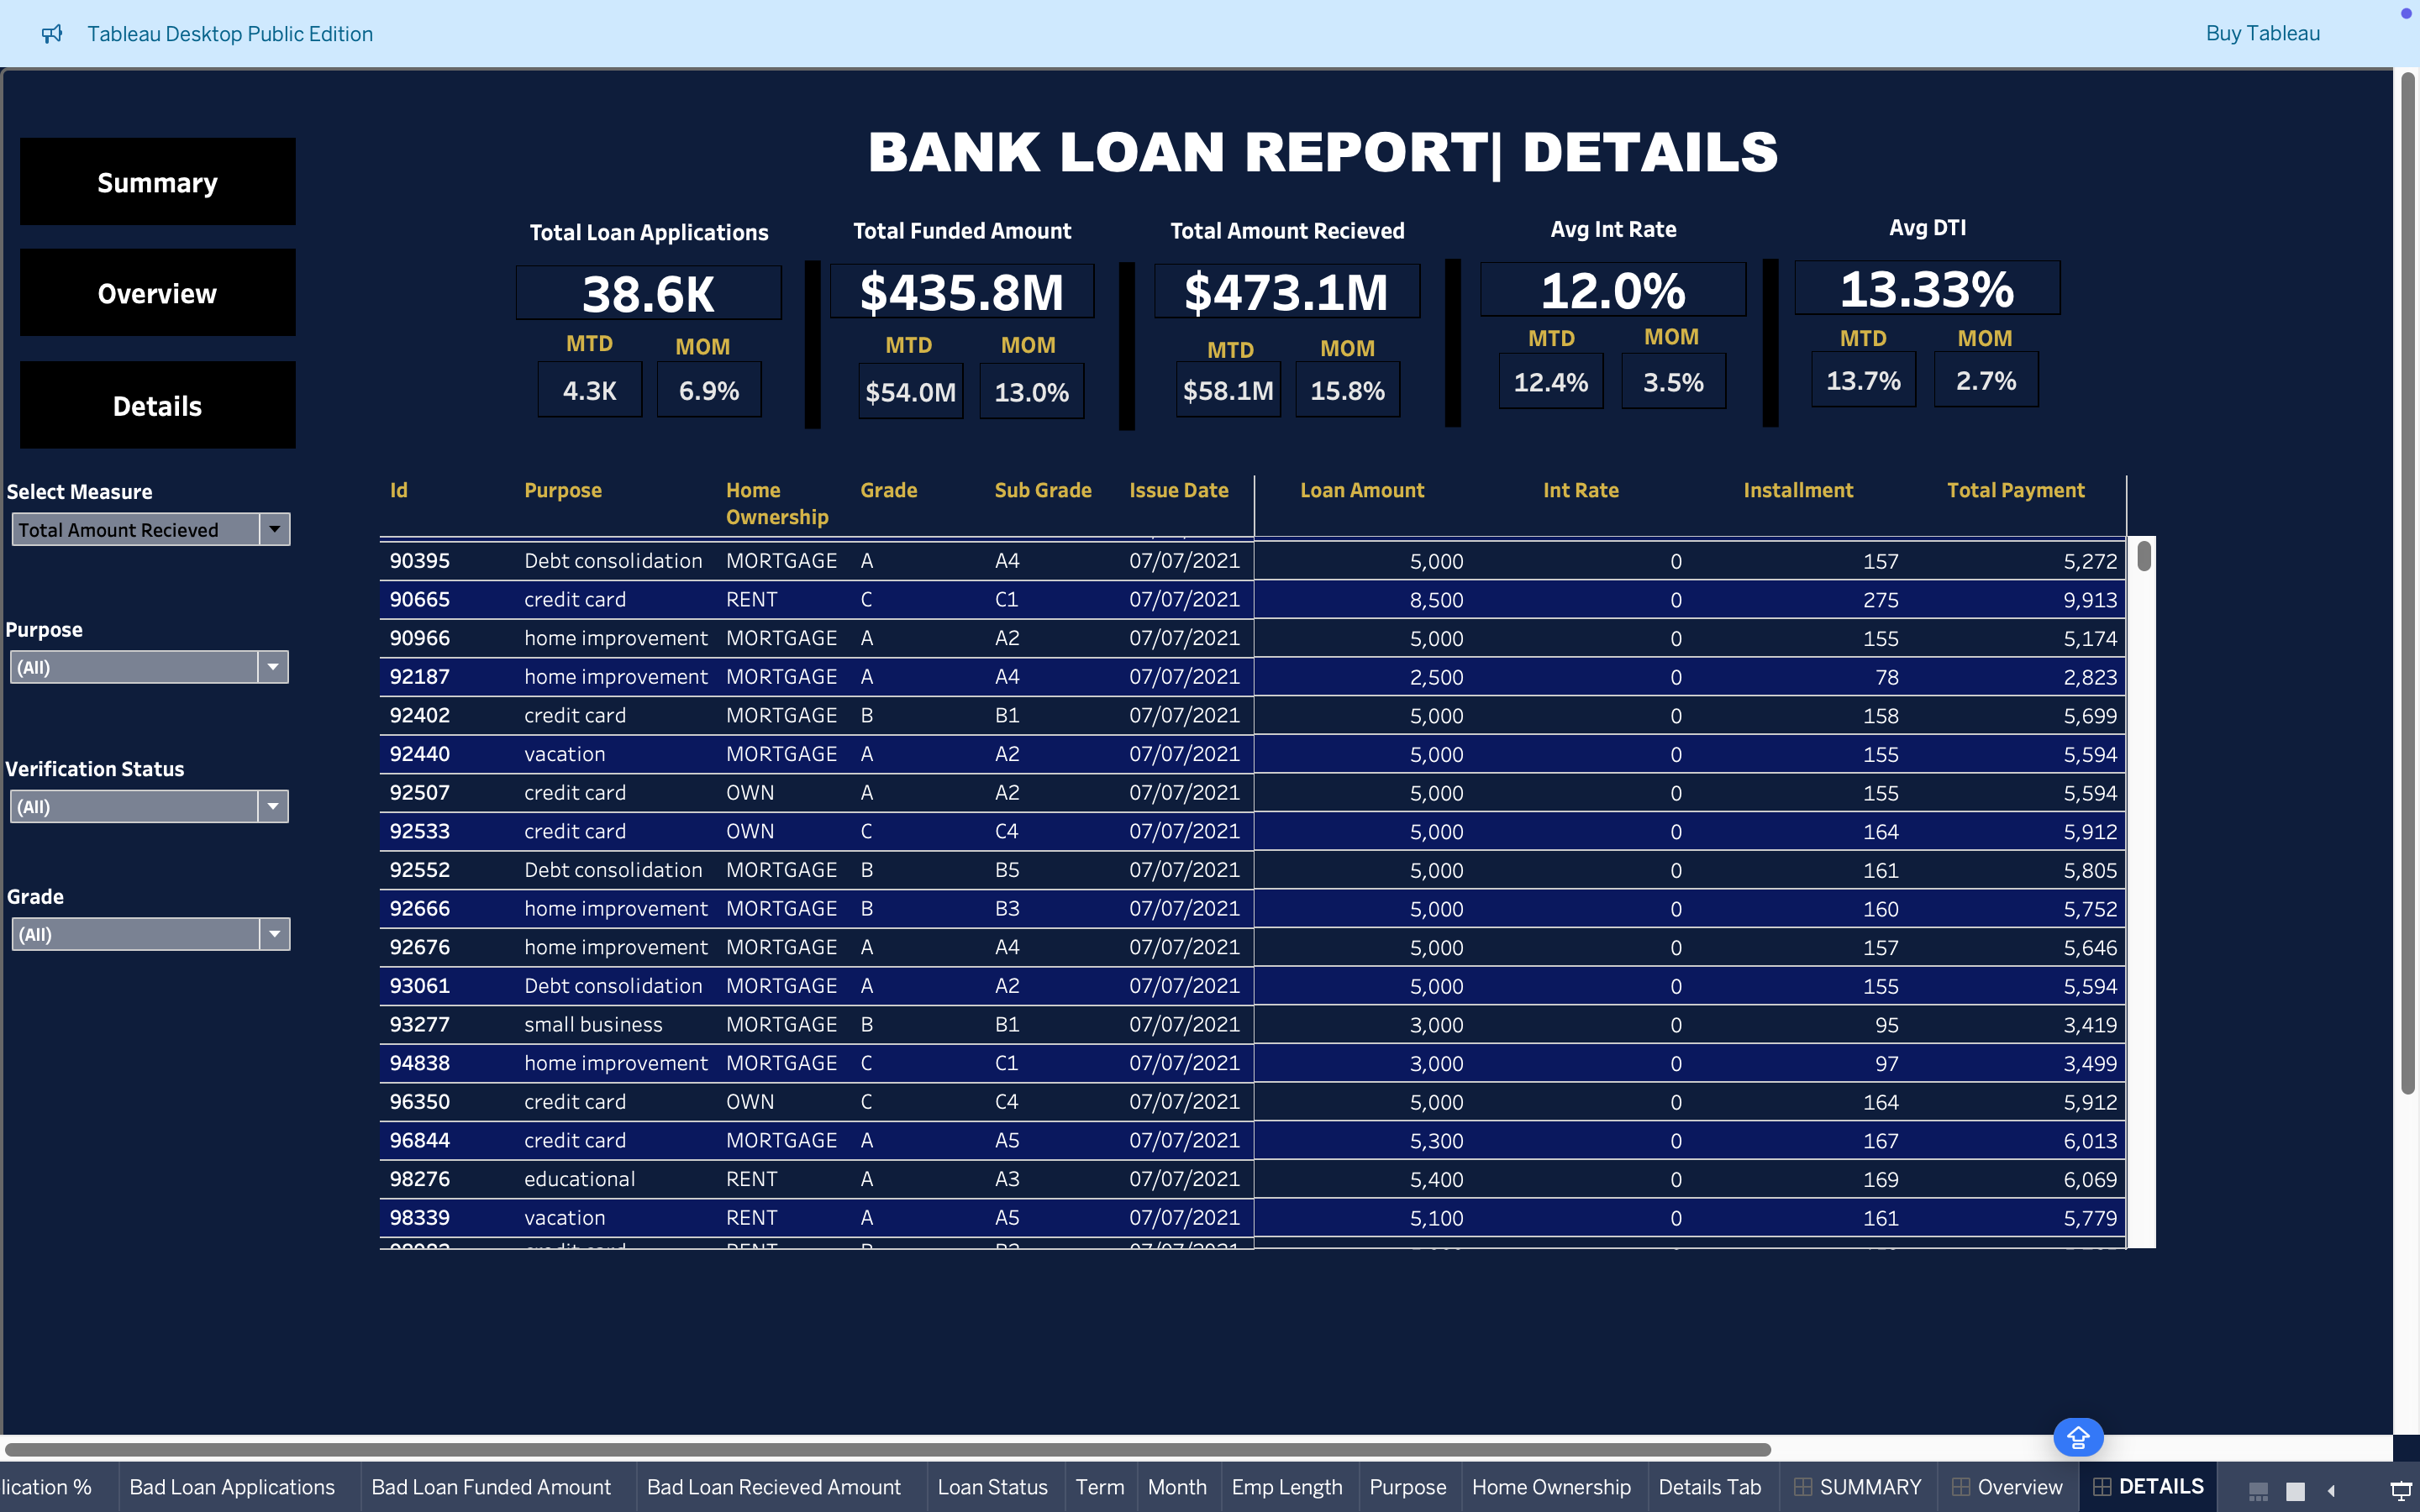

The dashboard page shown, as its layout file describes it:
{"tool":"tableau","page":{"name":"DETAILS","canvas":[1600,900],"ordinal":0},"visuals":[{"type":"text","box":[447,13,681,74]},{"type":"dashboard-object","box":[12,42,164,52]},{"type":"text","box":[1033,77,54,151]},{"type":"worksheet","title":"Avg DTI","mark":"Automatic","box":[1068,82,159,66]},{"type":"worksheet","title":"Avg Int Rate","mark":"Automatic","box":[881,83,159,66]},{"type":"worksheet","title":"Total Funded Amount","mark":"Automatic","box":[494,84,158,66]},{"type":"worksheet","title":"Total Amount Recieved","mark":"Automatic","box":[687,84,159,66]},{"type":"worksheet","title":"Total Loan Applications","mark":"Automatic","box":[307,85,159,66]},{"type":"text","box":[463,88,47,149]},{"type":"text","box":[844,88,44,130]},{"type":"text","box":[650,90,40,130]},{"type":"dashboard-object","box":[12,108,164,52]},{"type":"text","box":[894,146,59,30]},{"type":"text","box":[1081,146,56,30]},{"type":"text","box":[965,147,60,26]},{"type":"text","box":[1156,148,51,25]},{"type":"text","box":[330,149,42,30]},{"type":"text","box":[513,150,56,29]},{"type":"text","box":[593,151,42,28]},{"type":"text","box":[396,154,45,23]},{"type":"text","box":[783,154,41,25]},{"type":"text","box":[702,155,61,26]},{"type":"worksheet","title":"MTD Avg DTI","mark":"Automatic","box":[1078,169,63,34]},{"type":"worksheet","title":"MoM Avg DTI","mark":"Automatic","box":[1151,169,63,34]},{"type":"worksheet","title":"MTD Avg Int Rate","mark":"Automatic","box":[892,170,63,34]},{"type":"worksheet","title":"MoM Avg Int Rate ","mark":"Automatic","box":[965,170,63,34]},{"type":"dashboard-object","box":[12,175,164,52]},{"type":"worksheet","title":"MTD Total Loan Applications ","mark":"Automatic","box":[320,175,63,34]},{"type":"worksheet","title":"MoM Total Loan Applications","mark":"Automatic","box":[391,175,63,34]},{"type":"worksheet","title":"MTD Total Amount Recieved ","mark":"Automatic","box":[700,175,63,34]},{"type":"worksheet","title":"MoM Total Amount Recieved","mark":"Automatic","box":[771,175,63,34]},{"type":"worksheet","title":"MTD Total Funded Amount","mark":"Automatic","box":[511,176,63,34]},{"type":"worksheet","title":"MoM Total Funded Amount","mark":"Automatic","box":[583,176,63,34]},{"type":"worksheet","title":"Details Tab","mark":"Automatic","rows":["id","purpose","home_ownership","grade","sub_grade","issue_date"],"box":[226,243,1057,461]},{"type":"parameter","param":"[Parameters].[Parameter 1]","box":[4,244,172,71]},{"type":"filter","title":"Avg DTI","param":"[federated.1t1mkk51ygzmhx1bof0sq17v035e].[none:purpose:nk]","box":[3,326,172,71]},{"type":"filter","title":"Avg DTI","param":"[federated.1t1mkk51ygzmhx1bof0sq17v035e].[none:verification_status:nk]","box":[3,409,172,71]},{"type":"filter","title":"Avg DTI","param":"[federated.1t1mkk51ygzmhx1bof0sq17v035e].[none:grade:nk]","box":[4,485,172,71]}]}

Visuals, with their boxes on the page's 1600x900 design canvas (x1, y1, x2, y2). These are canvas units, not pixel positions in the 2420x1512 screenshot, which may show the page scaled, cropped or inside an application window:
text: [left=447, top=13, right=1128, bottom=87]
dashboard-object: [left=12, top=42, right=176, bottom=94]
text: [left=1033, top=77, right=1087, bottom=228]
"Avg DTI" worksheet: [left=1068, top=82, right=1227, bottom=148]
"Avg Int Rate" worksheet: [left=881, top=83, right=1040, bottom=149]
"Total Funded Amount" worksheet: [left=494, top=84, right=652, bottom=150]
"Total Amount Recieved" worksheet: [left=687, top=84, right=846, bottom=150]
"Total Loan Applications" worksheet: [left=307, top=85, right=466, bottom=151]
text: [left=463, top=88, right=510, bottom=237]
text: [left=844, top=88, right=888, bottom=218]
text: [left=650, top=90, right=690, bottom=220]
dashboard-object: [left=12, top=108, right=176, bottom=160]
text: [left=894, top=146, right=953, bottom=176]
text: [left=1081, top=146, right=1137, bottom=176]
text: [left=965, top=147, right=1025, bottom=173]
text: [left=1156, top=148, right=1207, bottom=173]
text: [left=330, top=149, right=372, bottom=179]
text: [left=513, top=150, right=569, bottom=179]
text: [left=593, top=151, right=635, bottom=179]
text: [left=396, top=154, right=441, bottom=177]
text: [left=783, top=154, right=824, bottom=179]
text: [left=702, top=155, right=763, bottom=181]
"MTD Avg DTI" worksheet: [left=1078, top=169, right=1141, bottom=203]
"MoM Avg DTI" worksheet: [left=1151, top=169, right=1214, bottom=203]
"MTD Avg Int Rate" worksheet: [left=892, top=170, right=955, bottom=204]
"MoM Avg Int Rate " worksheet: [left=965, top=170, right=1028, bottom=204]
dashboard-object: [left=12, top=175, right=176, bottom=227]
"MTD Total Loan Applications " worksheet: [left=320, top=175, right=383, bottom=209]
"MoM Total Loan Applications" worksheet: [left=391, top=175, right=454, bottom=209]
"MTD Total Amount Recieved " worksheet: [left=700, top=175, right=763, bottom=209]
"MoM Total Amount Recieved" worksheet: [left=771, top=175, right=834, bottom=209]
"MTD Total Funded Amount" worksheet: [left=511, top=176, right=574, bottom=210]
"MoM Total Funded Amount" worksheet: [left=583, top=176, right=646, bottom=210]
"Details Tab" worksheet: [left=226, top=243, right=1283, bottom=704]
parameter: [left=4, top=244, right=176, bottom=315]
"Avg DTI" filter: [left=3, top=326, right=175, bottom=397]
"Avg DTI" filter: [left=3, top=409, right=175, bottom=480]
"Avg DTI" filter: [left=4, top=485, right=176, bottom=556]
